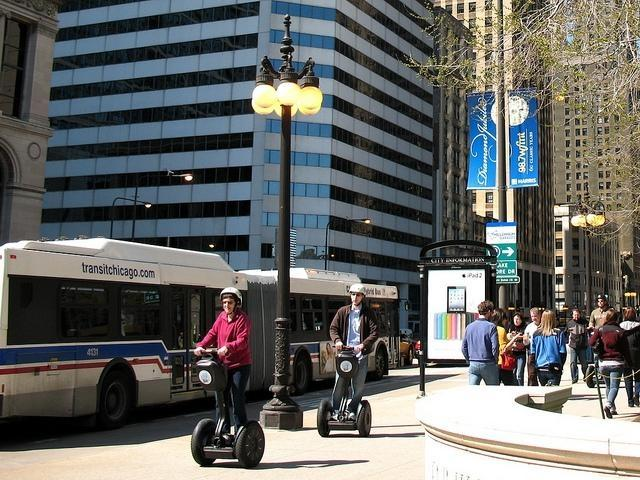bus: (0, 238, 402, 428)
